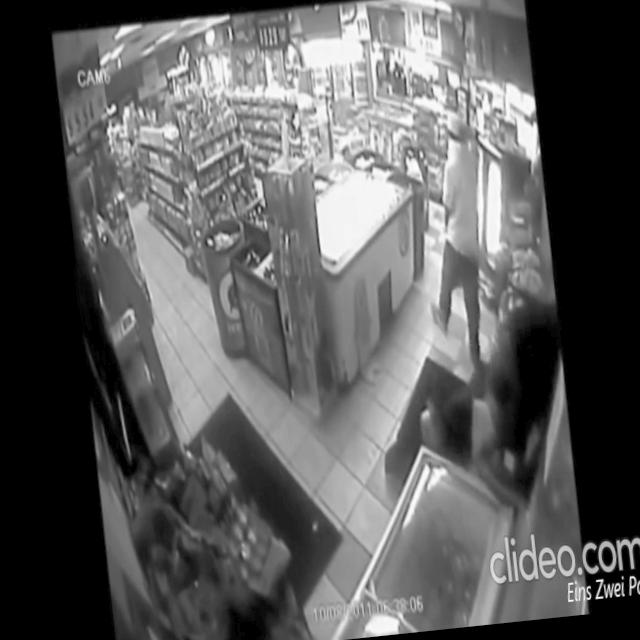person: (407, 104, 501, 386), (448, 288, 575, 495), (332, 126, 394, 242)
